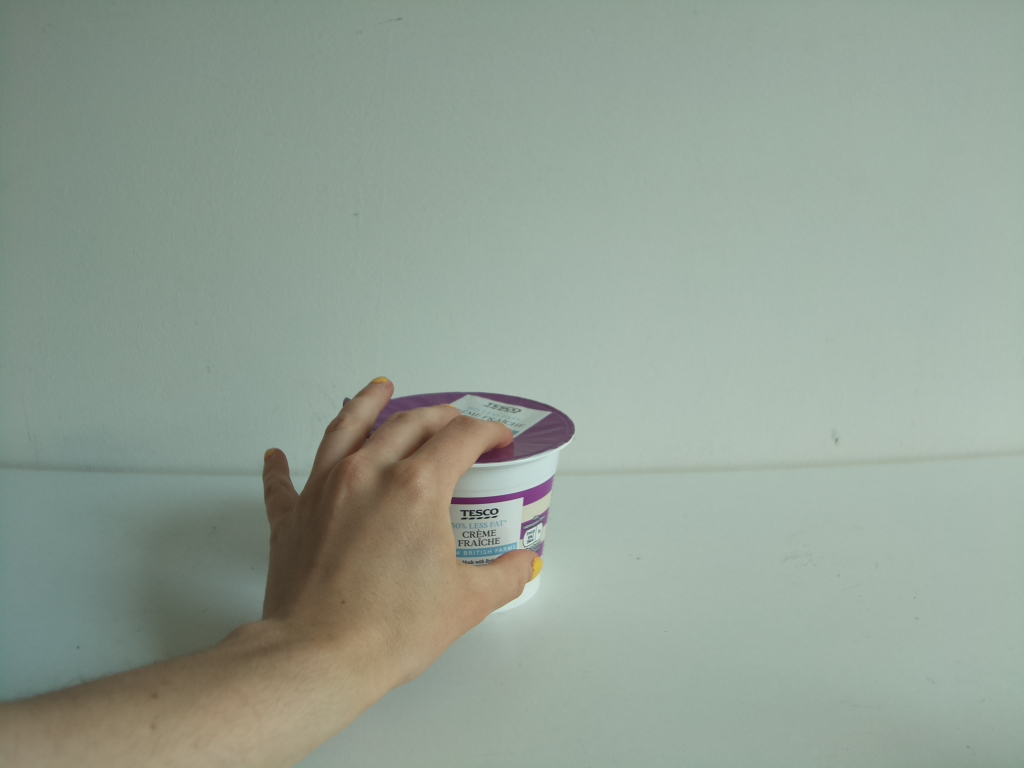cream: (338, 387, 573, 614)
